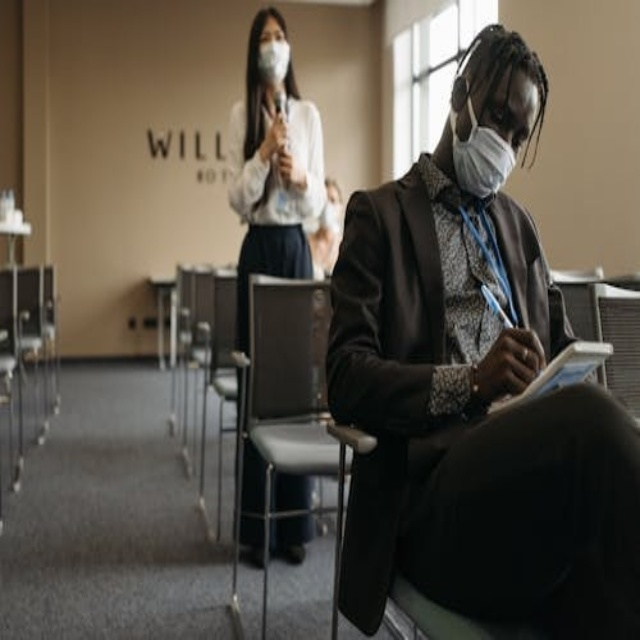Mascara: (454, 88, 518, 195), (259, 38, 289, 80)
Sin_gafas: (480, 98, 534, 151)
Sin_guantes: (479, 326, 543, 403), (261, 107, 287, 165)
